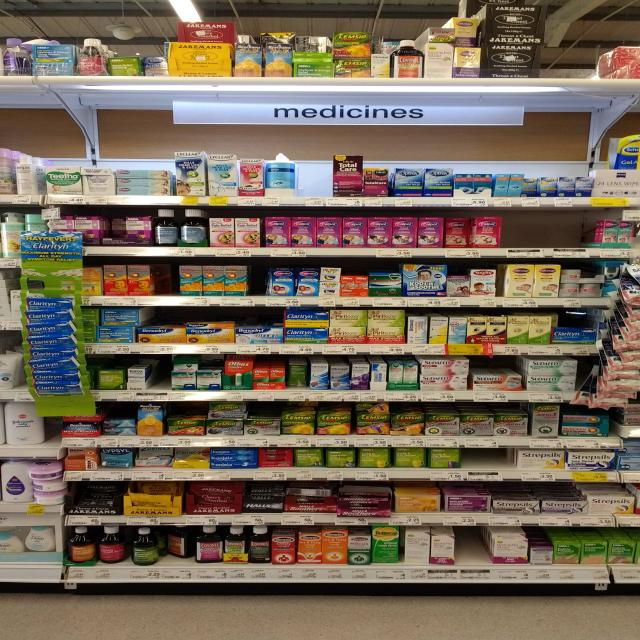empty: (504, 212, 599, 250), (458, 524, 492, 565), (152, 259, 182, 305), (459, 451, 516, 475), (148, 354, 170, 392)
